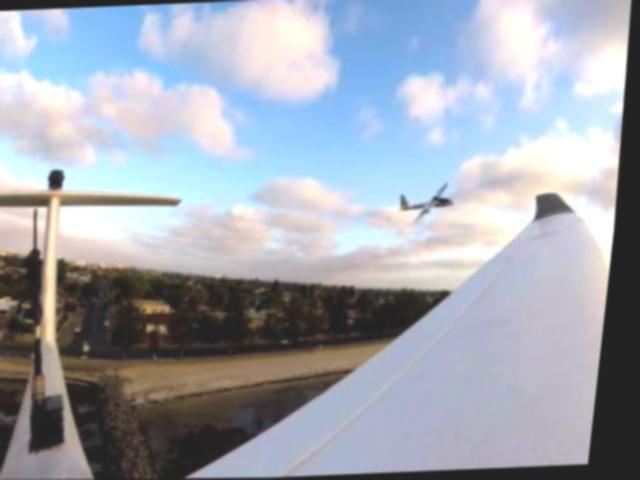uav: (399, 182, 463, 228)
